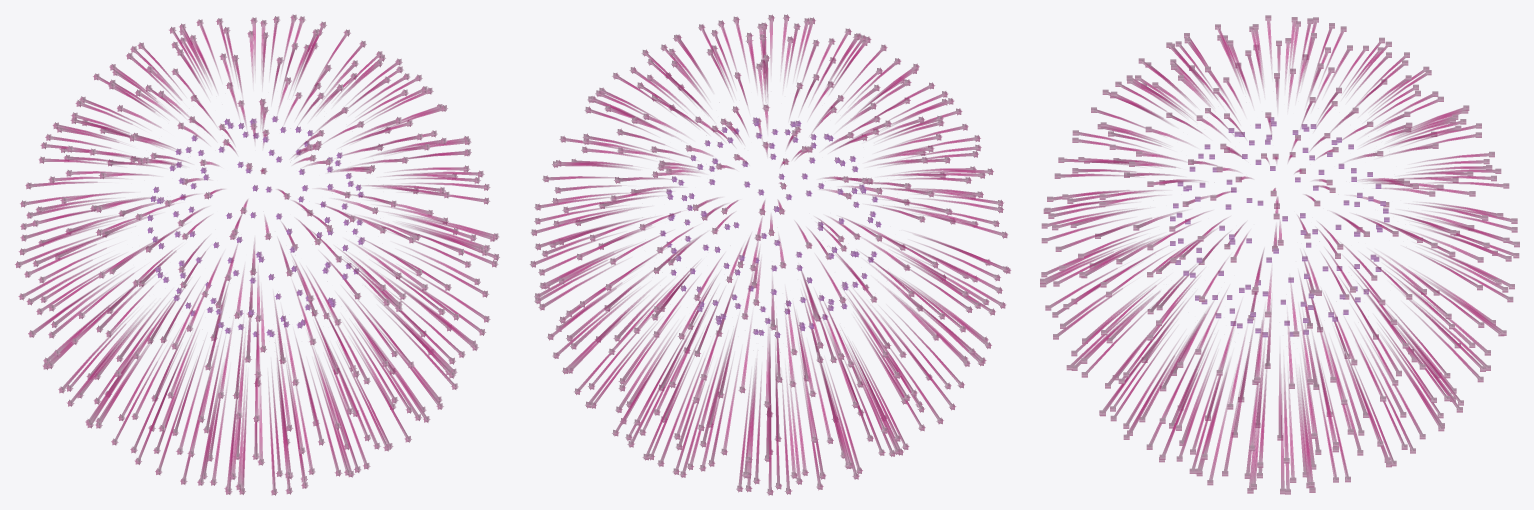
Rendered from fw_peony_purple_pink_b.glb.
3 views of the same model, side by side, from view 1: azimuth 30°, elevation 25°; view 2: azimuth 150°, elevation 25°; view 3: azimuth 270°, elevation 25° (orthographic).
Parts seen in each view (by area): view 1: spire; view 2: spire; view 3: spire.
Part boxes in pixels (x1,y1,x2,y2): spire: (15, 14, 499, 495); spire: (529, 14, 1011, 495); spire: (1040, 15, 1519, 494).
Bounding box in the file's own units: 22.2 × 22.22 × 22.19.
2 materials, 2 textured.
